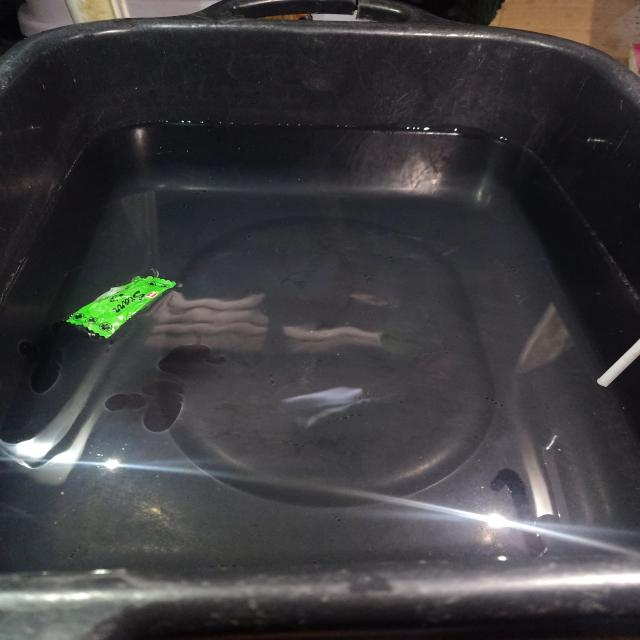Plastic Wrapper: (65, 271, 176, 338)
